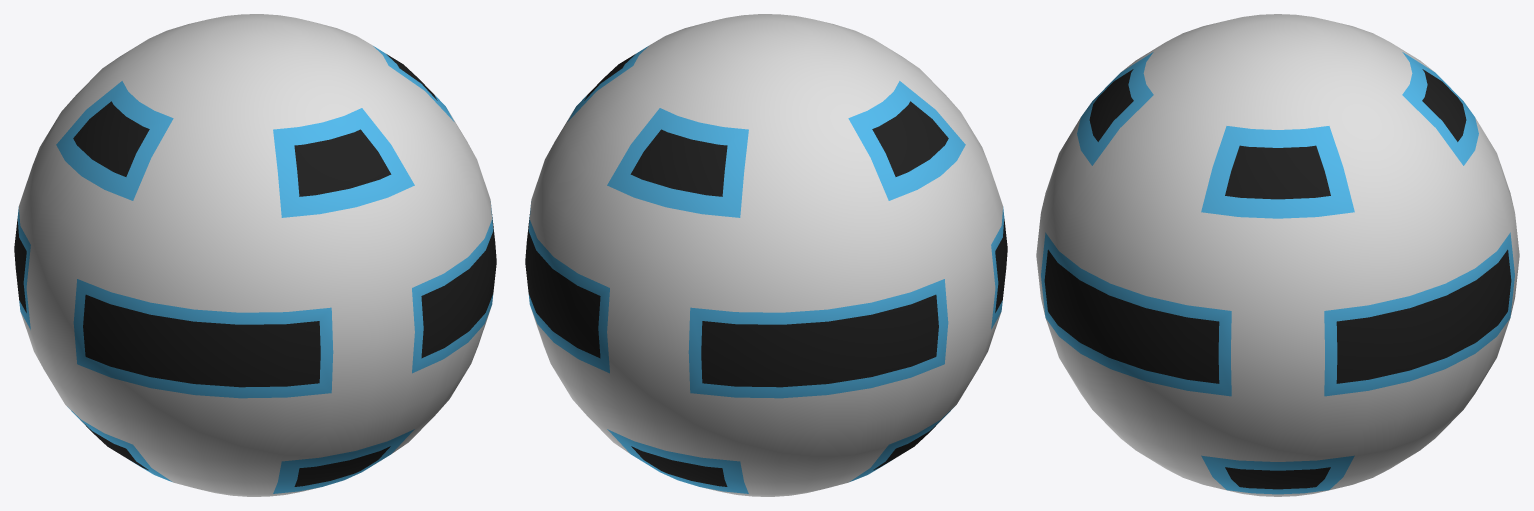
Rendered from ball_white.fbx.
The picture shows the model from 3 angles, left to right: view 1: azimuth 30°, elevation 25°; view 2: azimuth 150°, elevation 25°; view 3: azimuth 270°, elevation 25°; orthographic projection.
Parts seen in each view (by area): view 1: Sphere; view 2: Sphere; view 3: Sphere.
Boxes of the visible parts, x1,y1,x2,y2 form: Sphere: (14, 14, 496, 496); Sphere: (525, 14, 1007, 496); Sphere: (1036, 14, 1519, 496).
Size of the model in its own units: 0.23 by 0.23 by 0.23.
